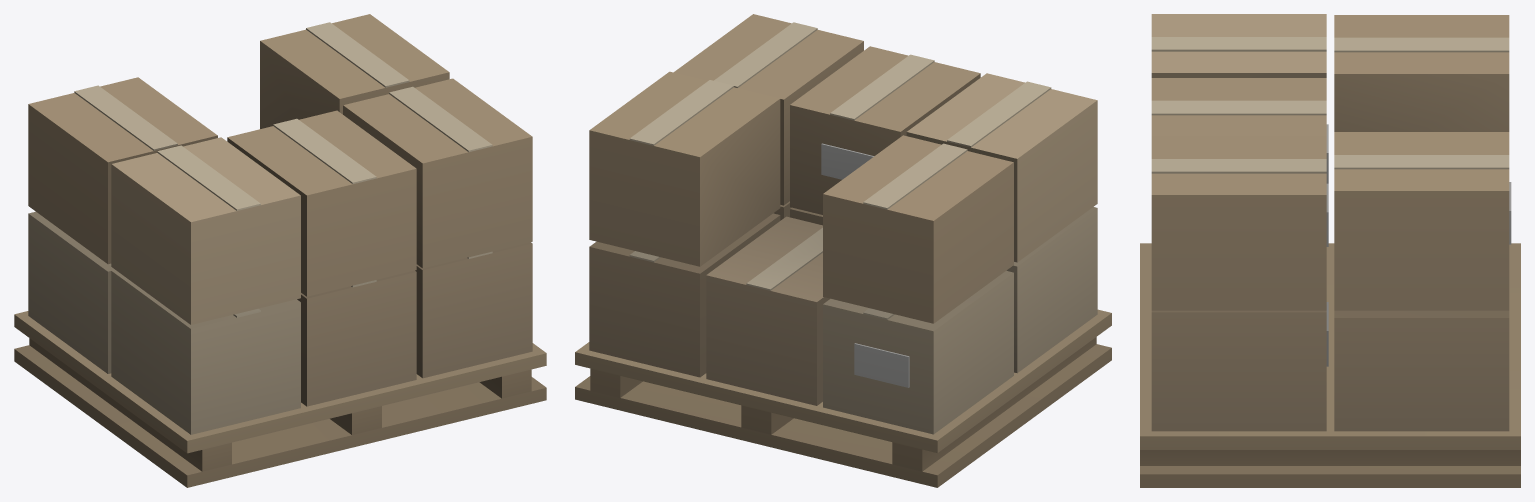
File: cartons.glb
3 views of the same model, side by side, from view 1: azimuth 30°, elevation 25°; view 2: azimuth 150°, elevation 25°; view 3: azimuth 270°, elevation 25° (orthographic). The views are drawn at different scales.
Visible parts, largest first — view 1: cartons; view 2: cartons; view 3: cartons.
Boxes of the visible parts, x1,y1,x2,y2 form: cartons: (14, 14, 546, 487); cartons: (575, 14, 1111, 487); cartons: (1140, 14, 1520, 487).
Size of the model in its own units: 1.2 by 0.852 by 1.
